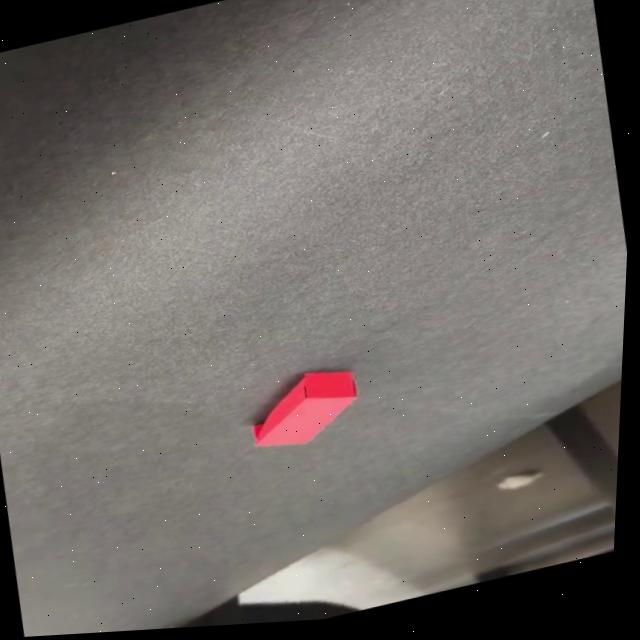red block: (242, 359, 367, 456)
